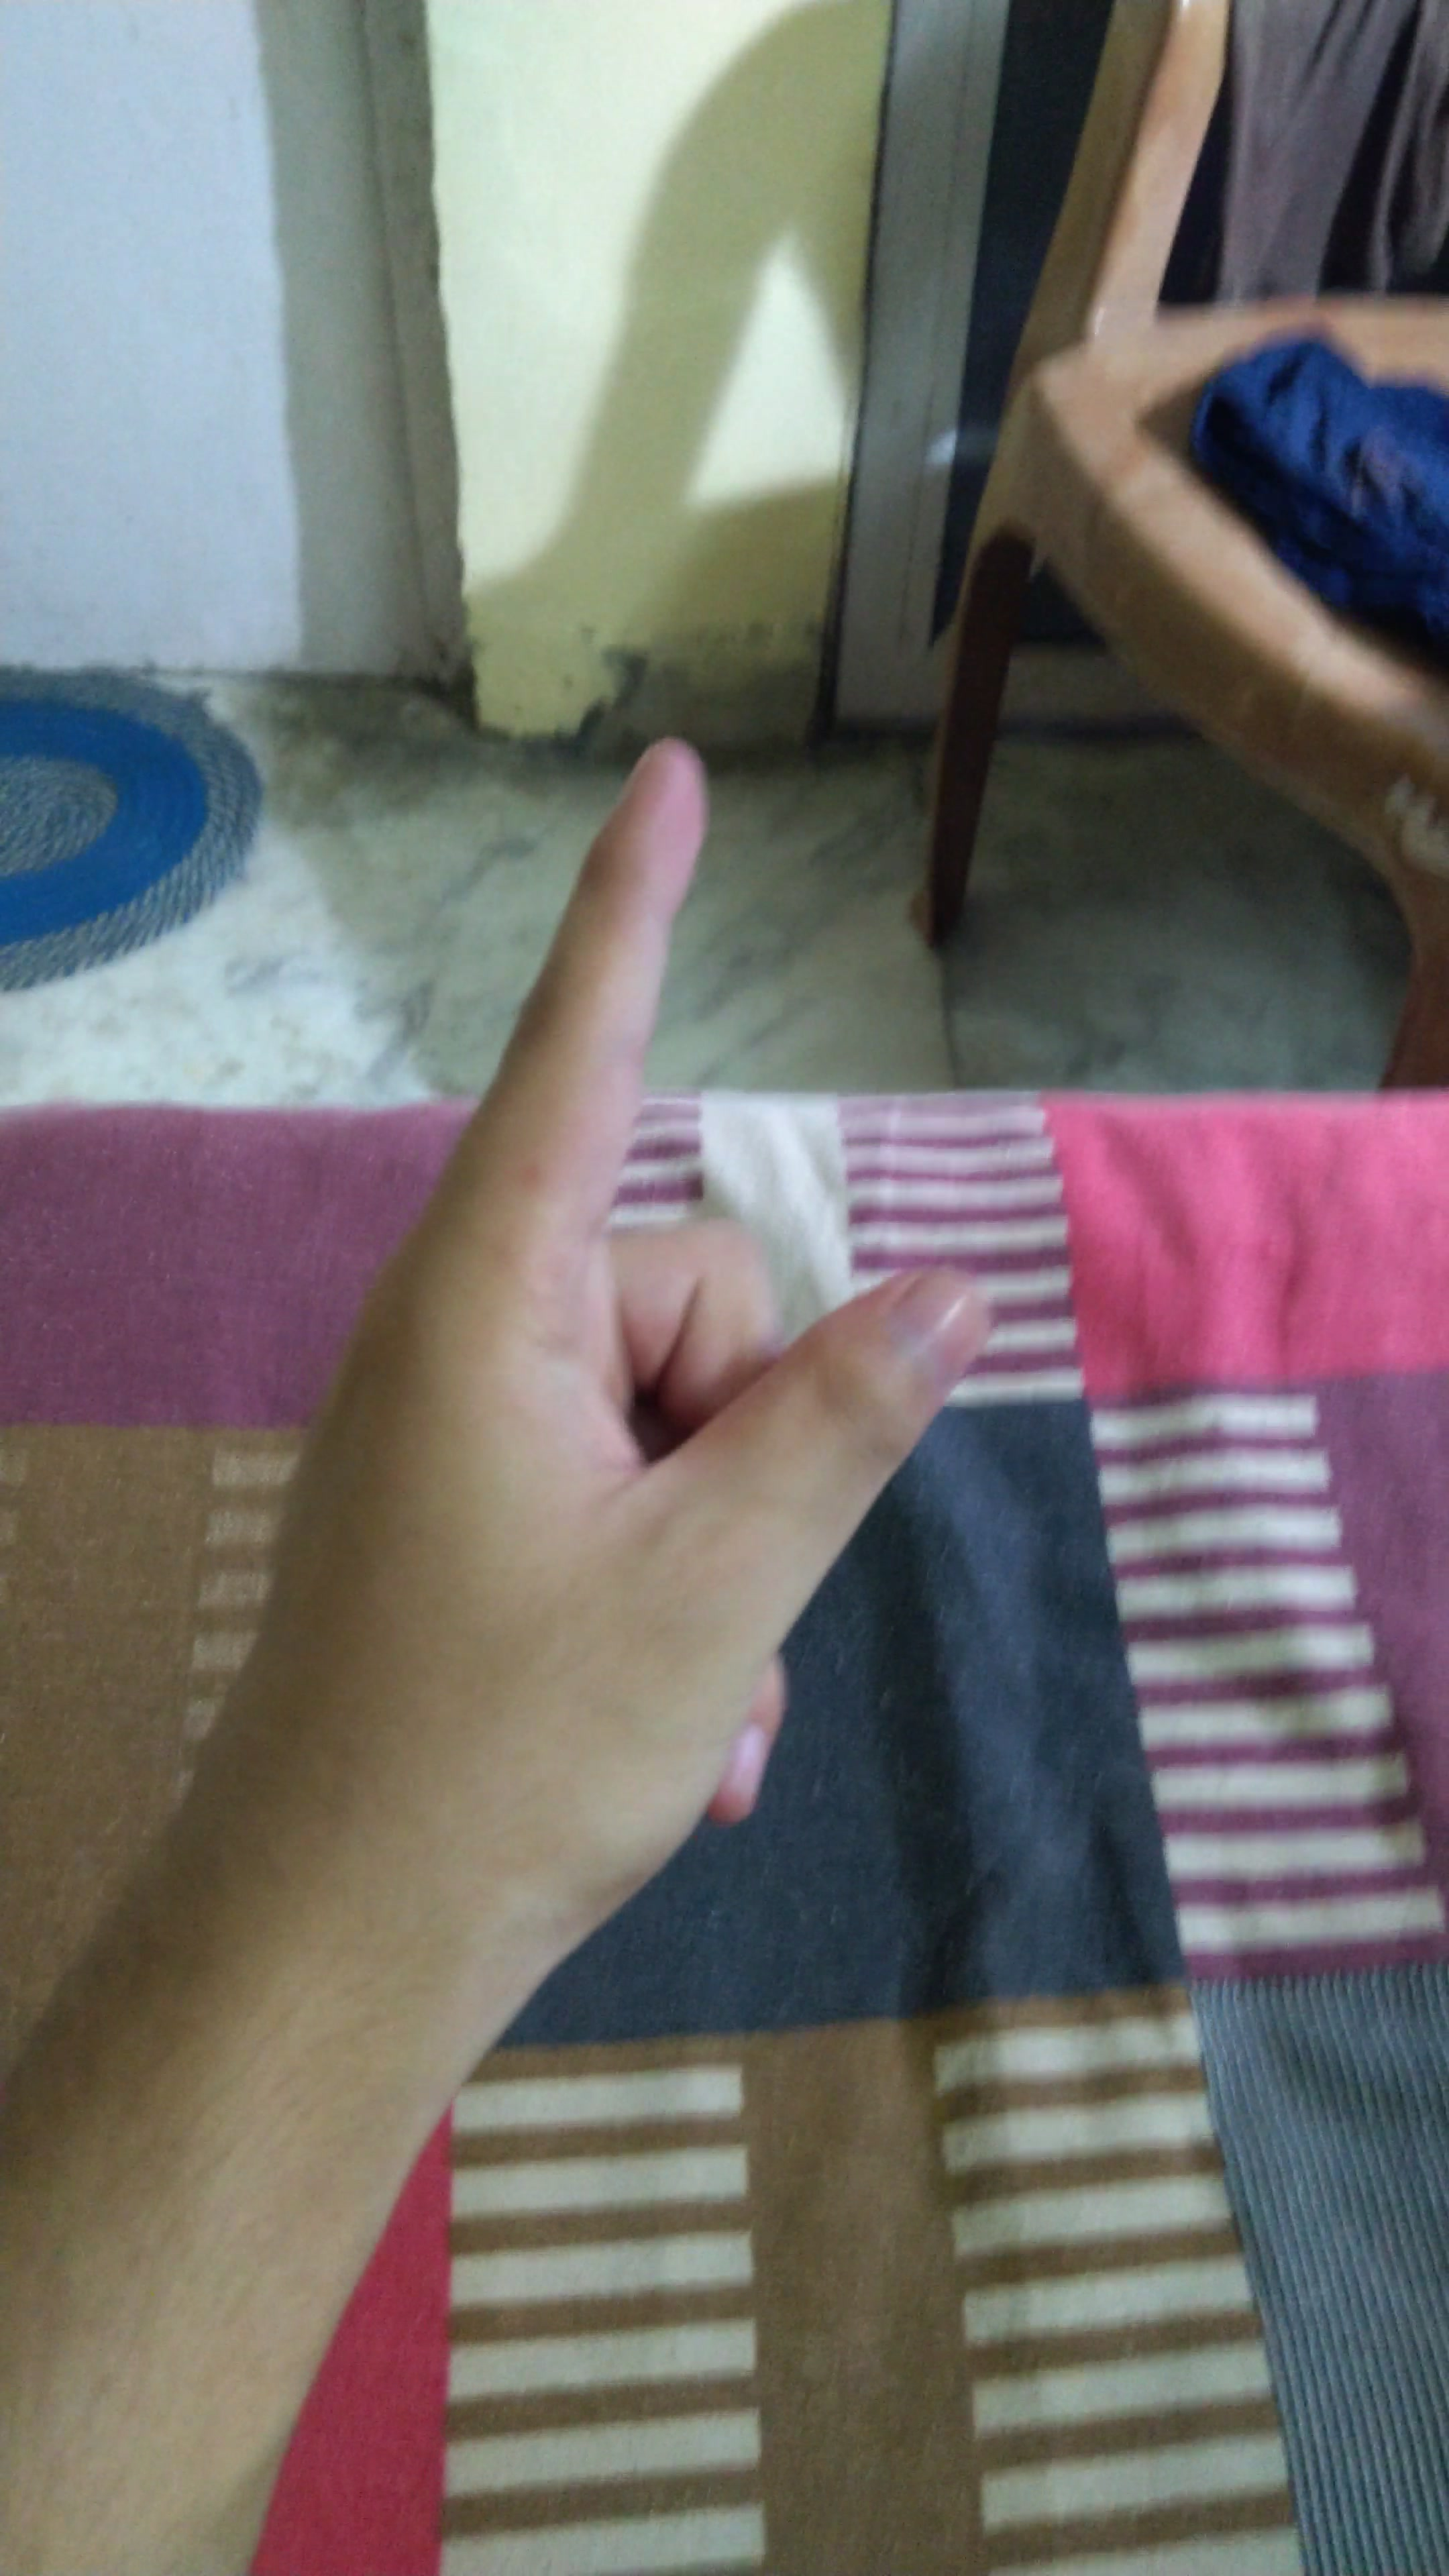hand: (258, 709, 1058, 1976)
